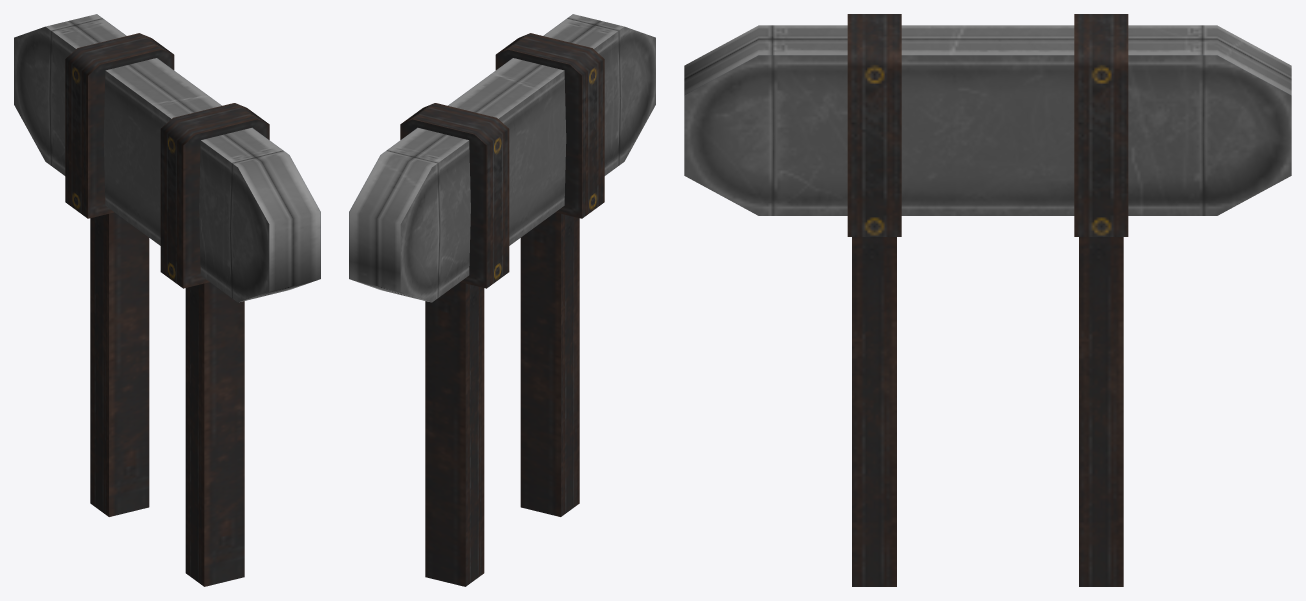
Rendered from Pipe3_Connect1_L1.fbx.
3 views of the same model, side by side, from view 1: azimuth 30°, elevation 25°; view 2: azimuth 150°, elevation 25°; view 3: azimuth 270°, elevation 25° (orthographic). The views are drawn at different scales.
Visible parts, largest first — view 1: PIpe3_Connect1_L1; view 2: PIpe3_Connect1_L1; view 3: PIpe3_Connect1_L1.
Part boxes in pixels (x1,y1,x2,y2): PIpe3_Connect1_L1: (14,14,320,586); PIpe3_Connect1_L1: (349,14,655,586); PIpe3_Connect1_L1: (684,14,1291,586).
Size of the model in its own units: 8.72 by 44.02 by 44.59.
